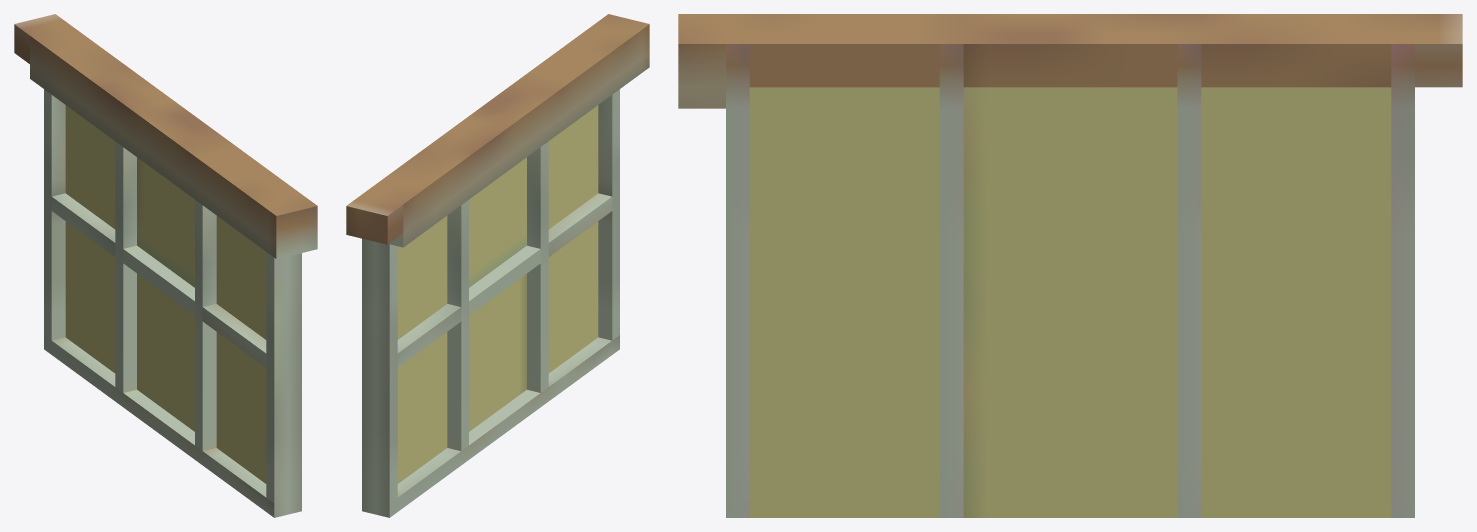
The model's file is WindowFrame4PaneWiderOutside_00.obj.
3 renders of one model, left to right at view 1: azimuth 30°, elevation 25°; view 2: azimuth 150°, elevation 25°; view 3: azimuth 270°, elevation 25°, orthographic. The views are drawn at different scales.
Parts seen in each view (by area): view 1: WindowFrame4PaneWiderOutside_00; view 2: WindowFrame4PaneWiderOutside_00; view 3: WindowFrame4PaneWiderOutside_00.
Part boxes in pixels (<box>): WindowFrame4PaneWiderOutside_00: <box>14,14,317,517</box>; WindowFrame4PaneWiderOutside_00: <box>346,14,649,517</box>; WindowFrame4PaneWiderOutside_00: <box>678,14,1462,517</box>.
Size of the model in its own units: 0.15 by 1.1 by 1.65.
